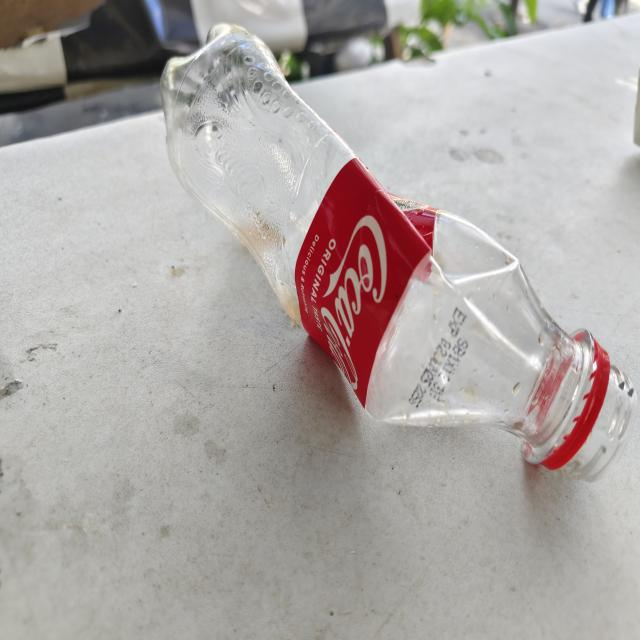Bottle: (161, 24, 636, 481)
